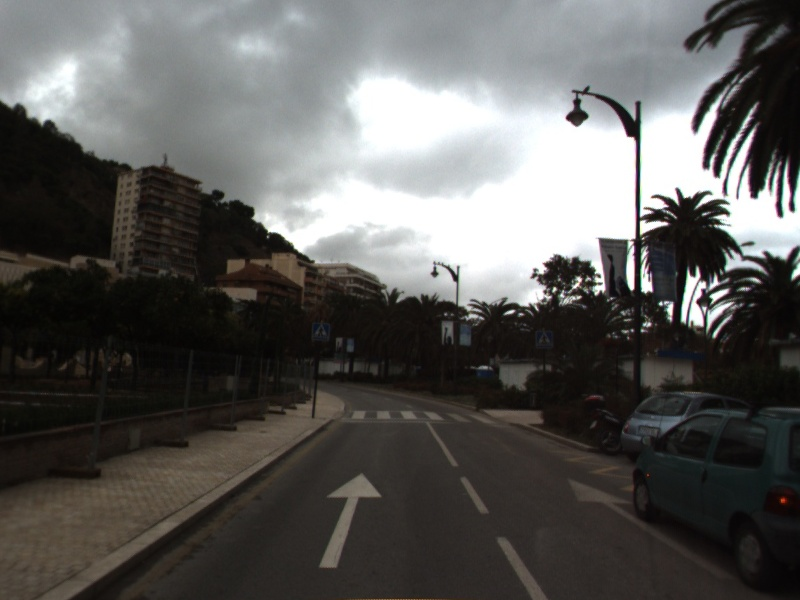STRAIGHT: (566, 476, 740, 581), (317, 471, 384, 570)
